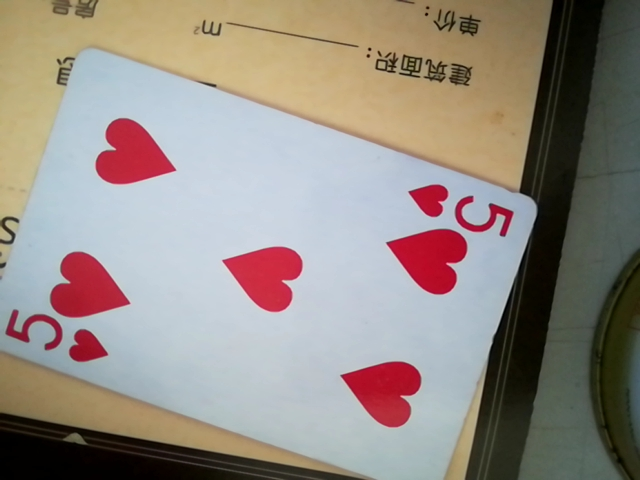hx 5: (2, 52, 549, 477)
